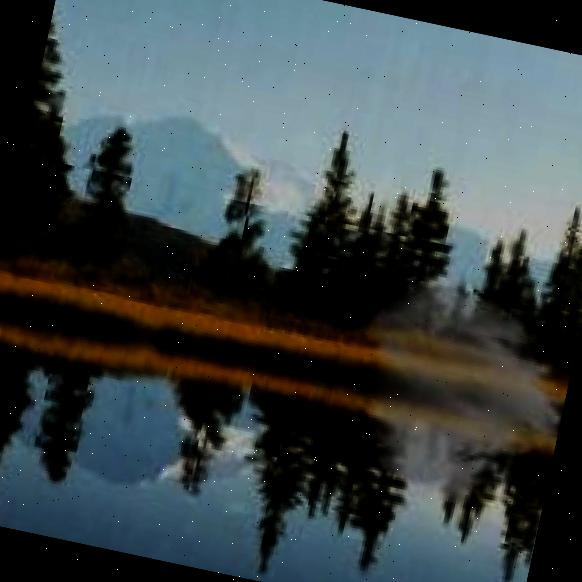smoke: (331, 262, 582, 527)
